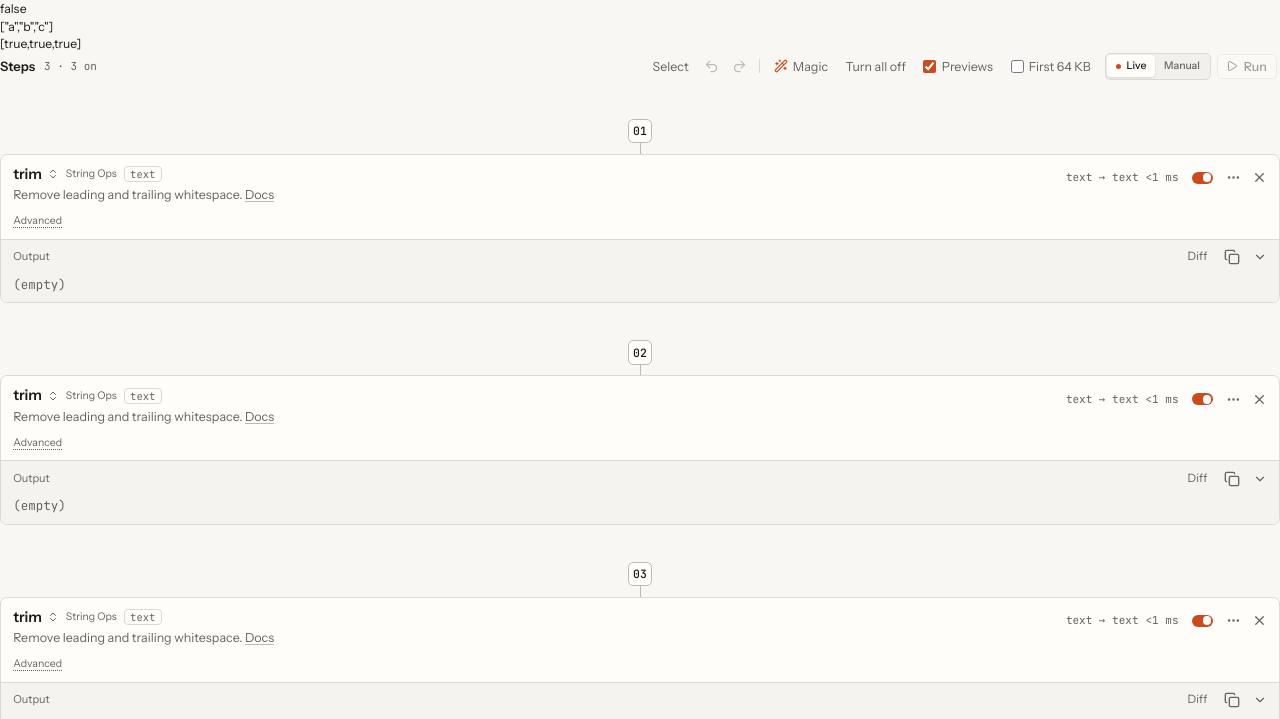
Test case: <StepList /> selection mode › groups a contiguous selection into a macro, named inline (no blocking window.prompt)
Step 1. Click the button "Select" → point(671, 66), box [646,54,696,78]
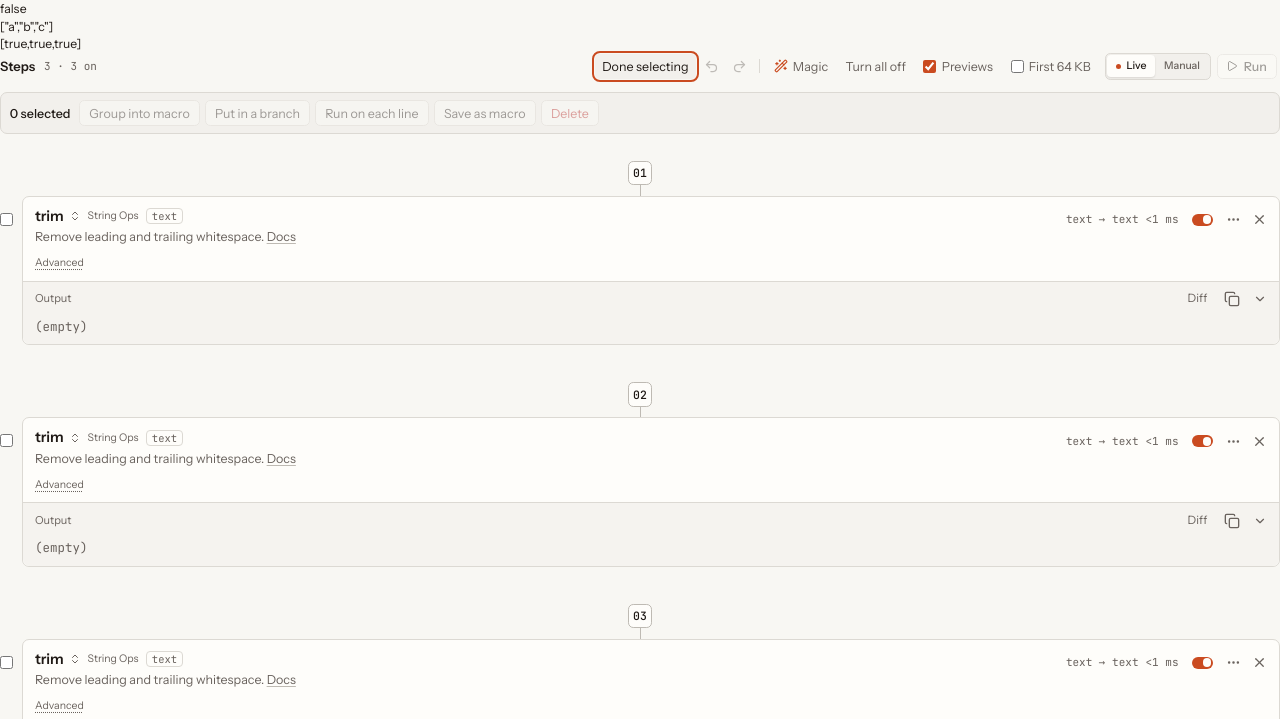
Step 2. Click the checkbox named "select step 1" → point(6, 219), box [0,212,13,226]
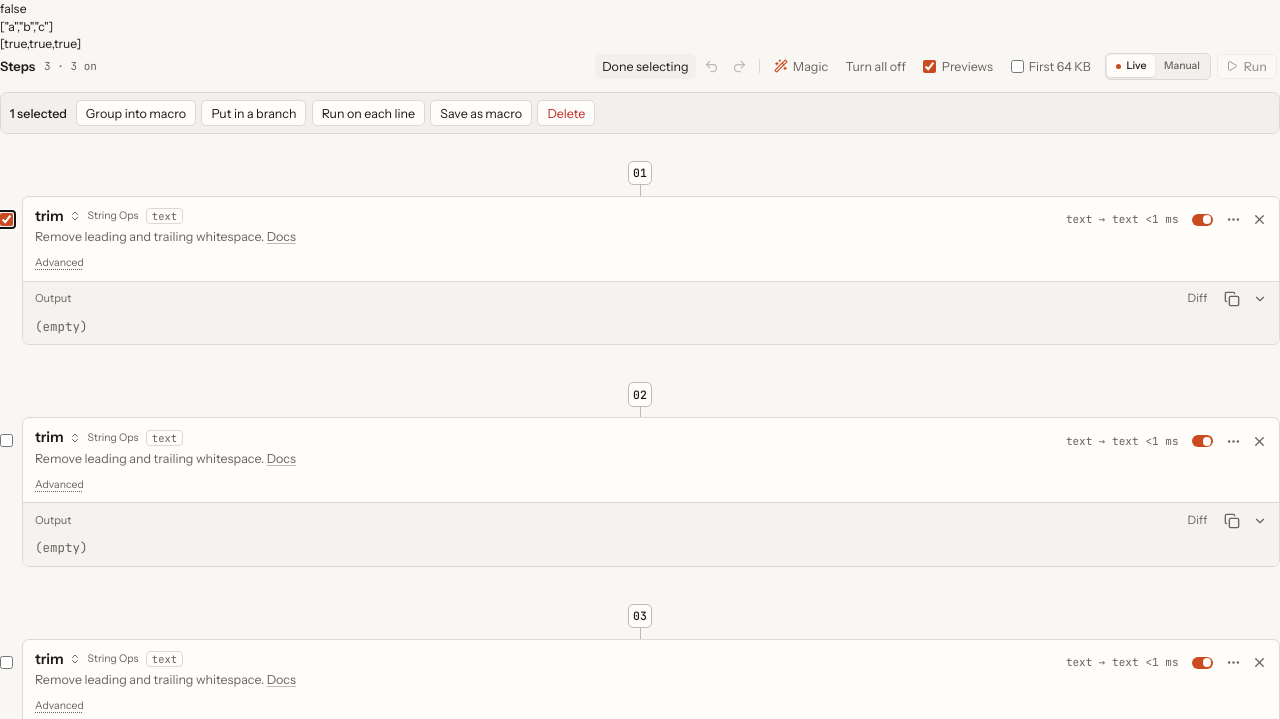
Step 3. Click the checkbox named "select step 2" → point(6, 440), box [0,434,13,447]
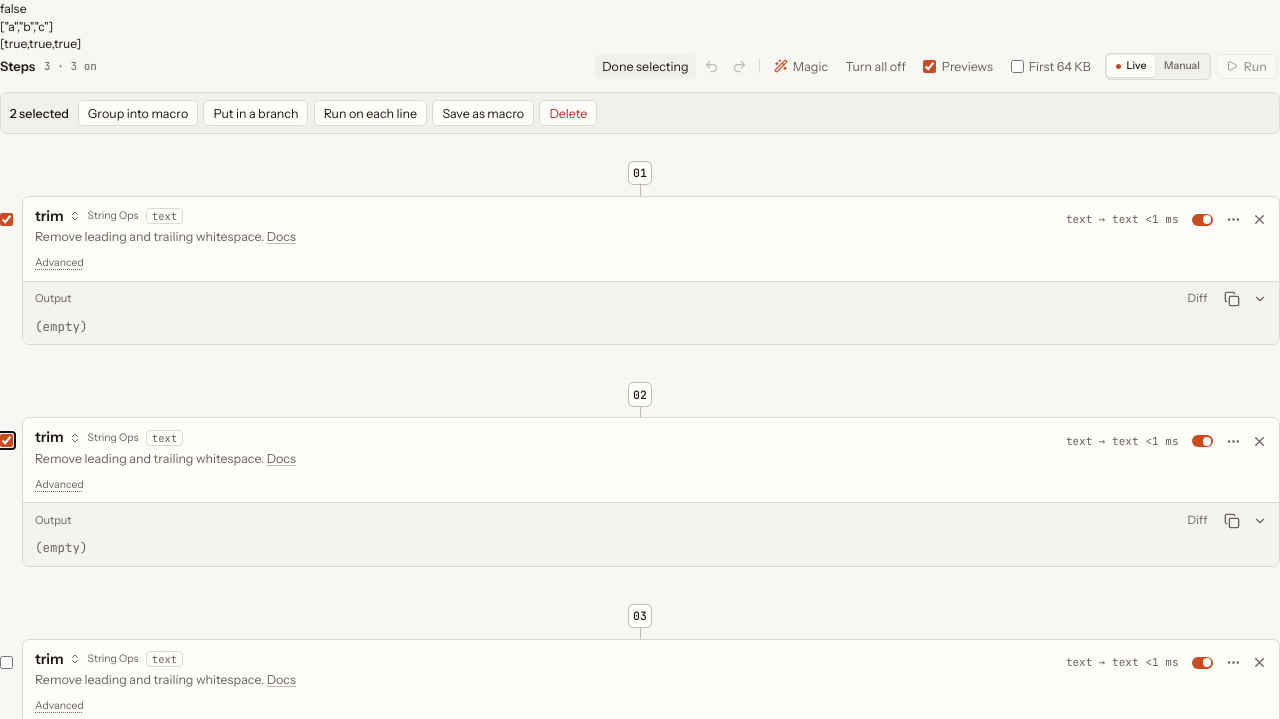
Step 4. Click the button "Group into macro" → point(138, 113), box [78,100,198,126]
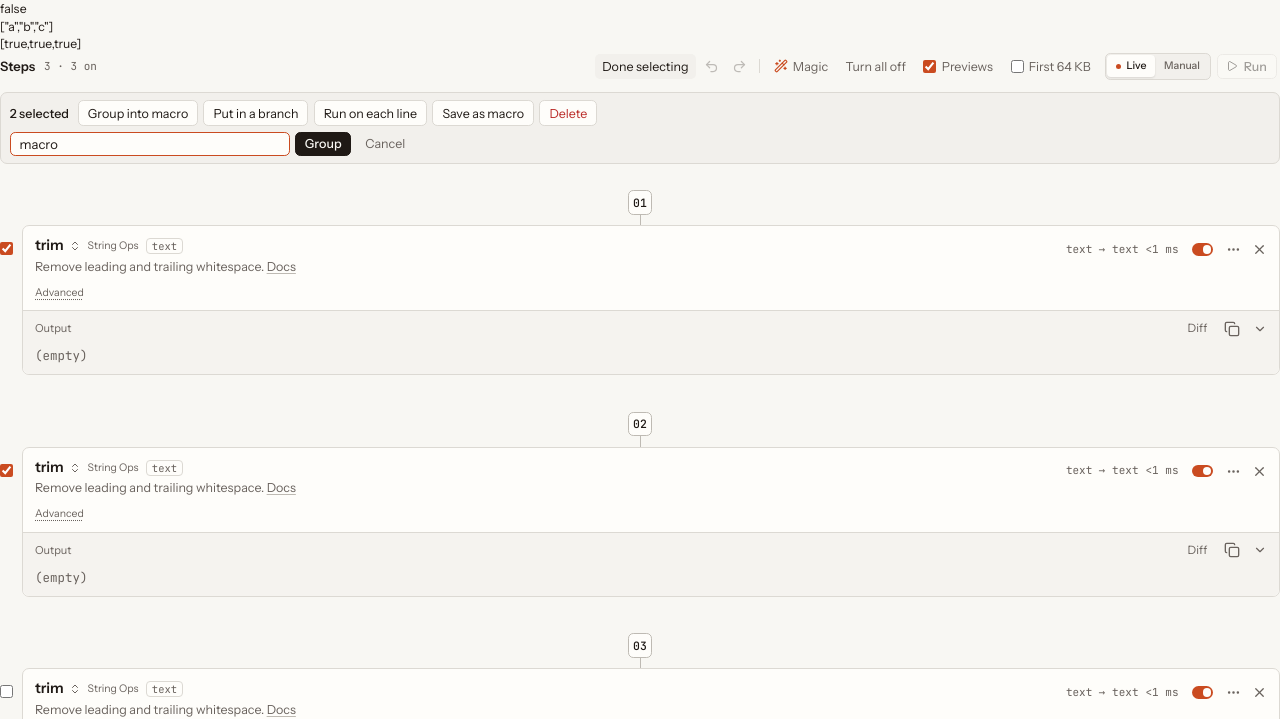
Step 5. Replace the text in the field named "name for the new macro" with "combo" → point(150, 144), box [10,132,290,156]
Then press Enter
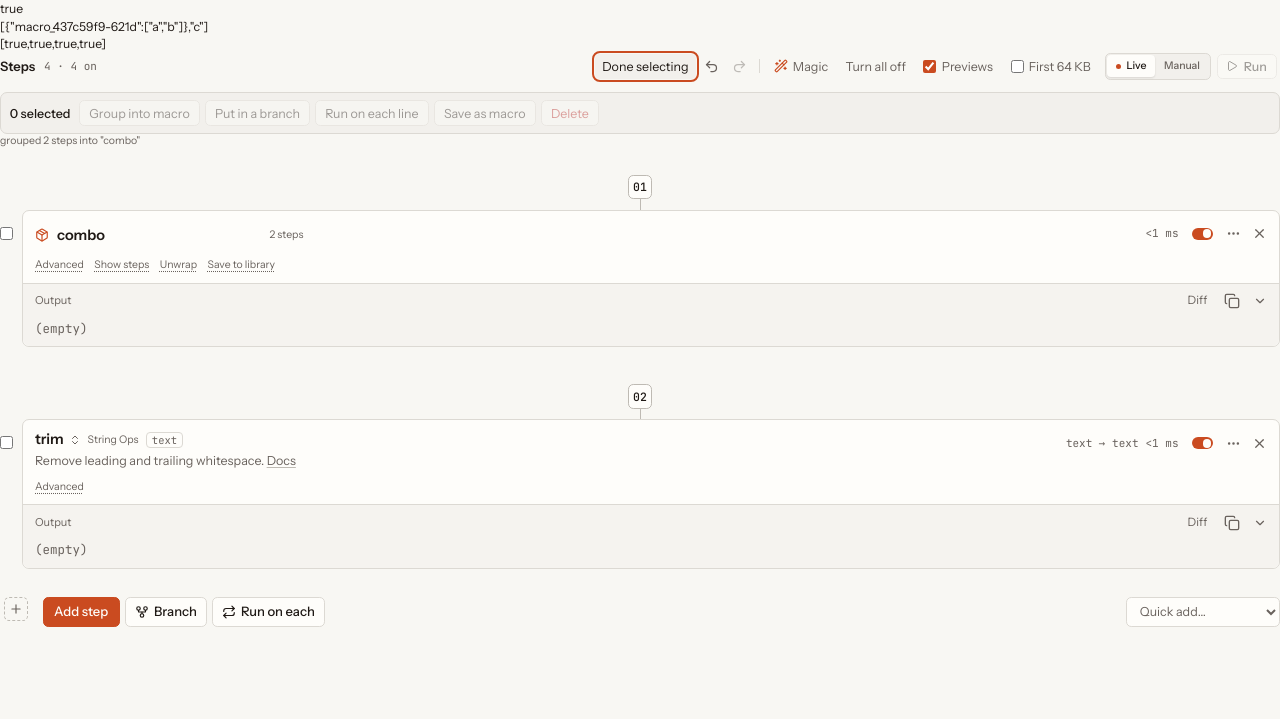
Check: the field named "macro name" holds "combo", box [52,222,262,248]
